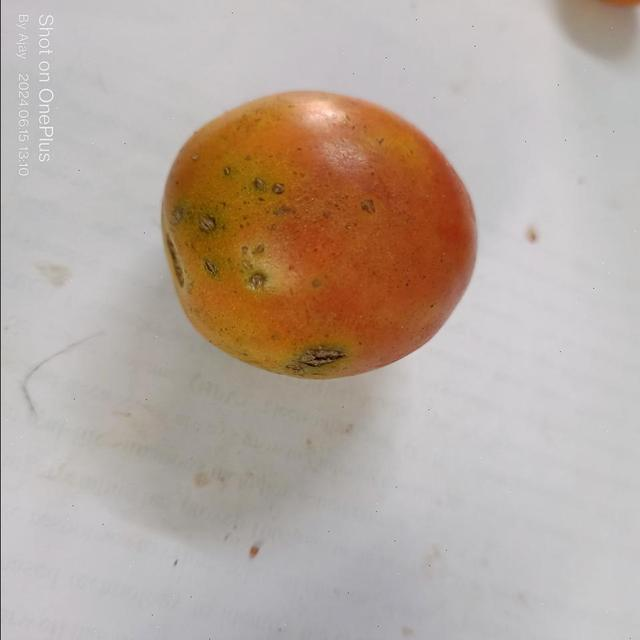Bacterial Spot Fruit: (13, 17, 244, 238)
